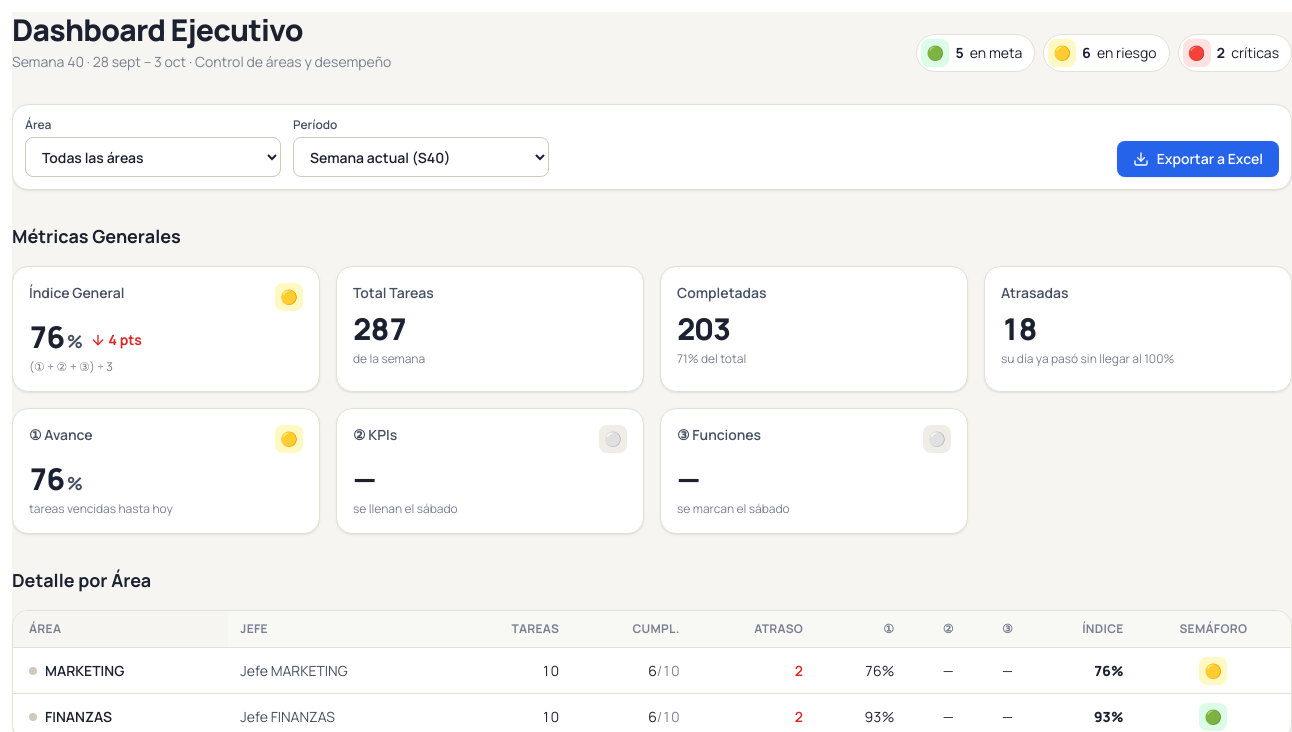
it: DashboardPage › the period filter loads that week and goes into the URL
Select "-2 semanas (S38)" in the dropdown labelled "Período": (421, 157) x1=293 y1=137 x2=549 y2=177
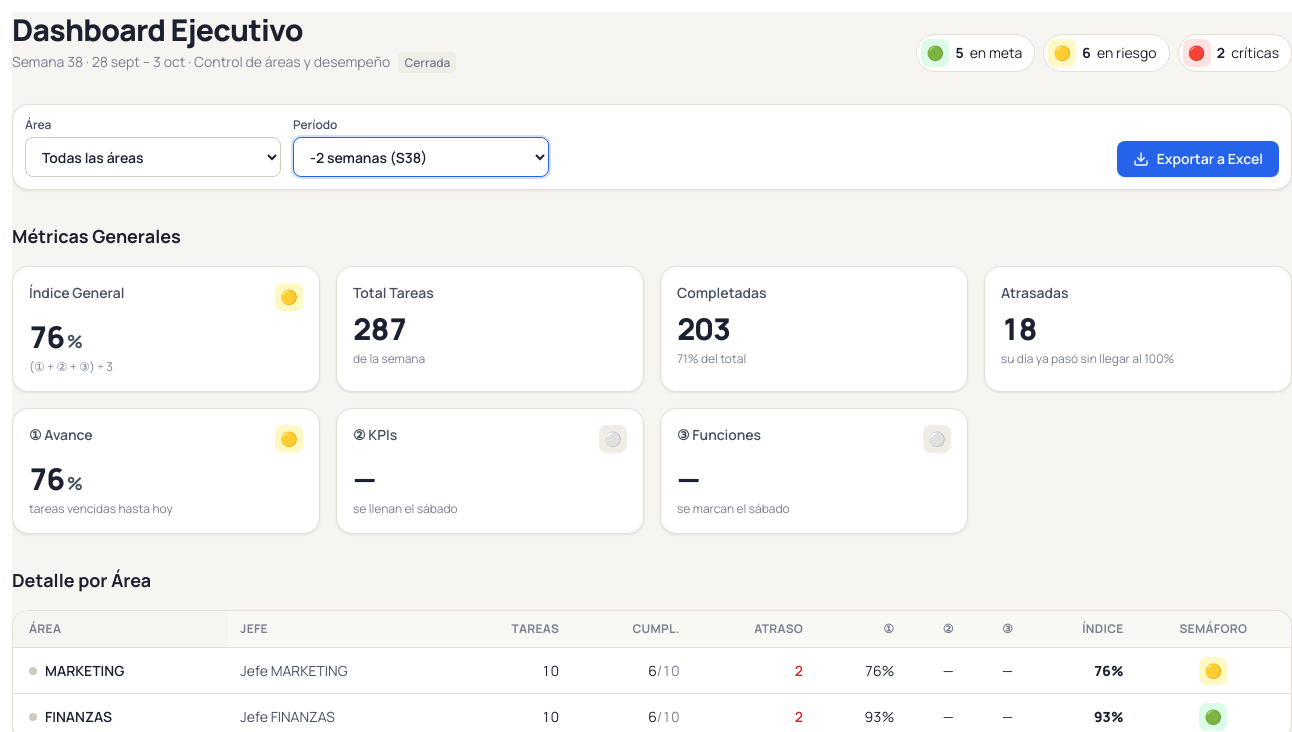
Result: the text "Semana 38" is shown at x1=12 y1=52 x2=456 y2=72
